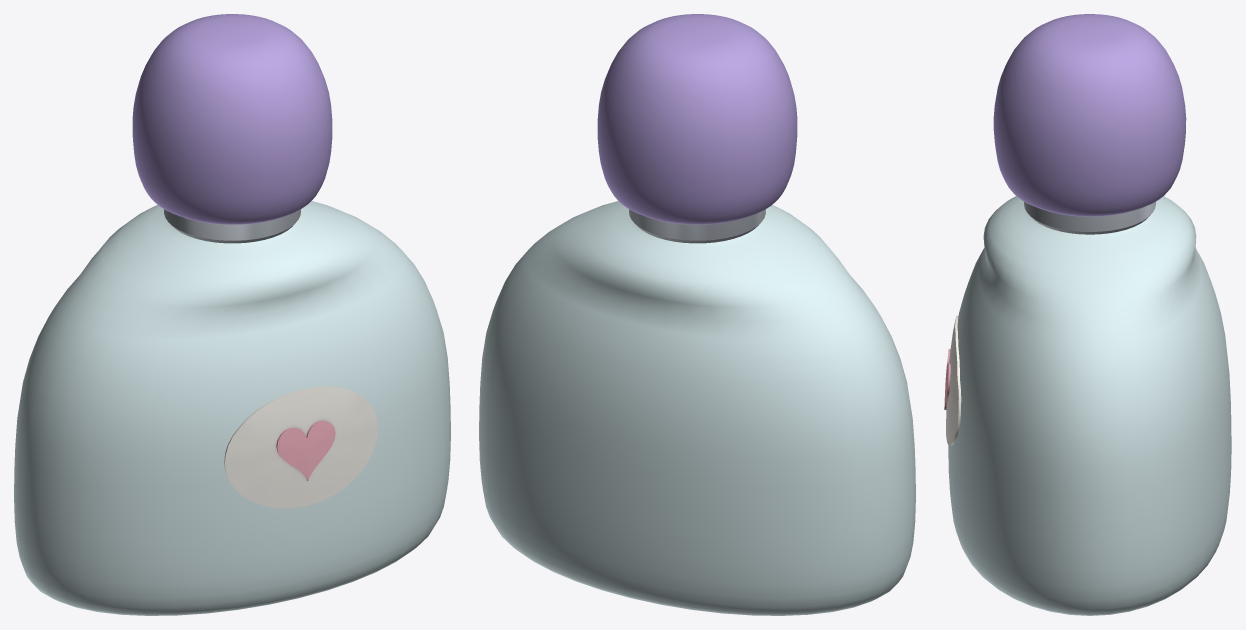
The model's file is perfume.glb.
3 renders of one model, left to right at view 1: azimuth 30°, elevation 25°; view 2: azimuth 150°, elevation 25°; view 3: azimuth 270°, elevation 25°, orthographic. The views are drawn at different scales.
Parts seen in each view (by area): view 1: perfume-bottle_body; view 2: perfume-bottle_body; view 3: perfume-bottle_body.
Part boxes in pixels (bbox=[...]): perfume-bottle_body: bbox=[14, 14, 450, 615]; perfume-bottle_body: bbox=[479, 14, 915, 615]; perfume-bottle_body: bbox=[944, 14, 1231, 615].
Size of the model in its own units: 0.0921 by 0.112 by 0.0579.
Materials: 4 (2 with a texture image).
